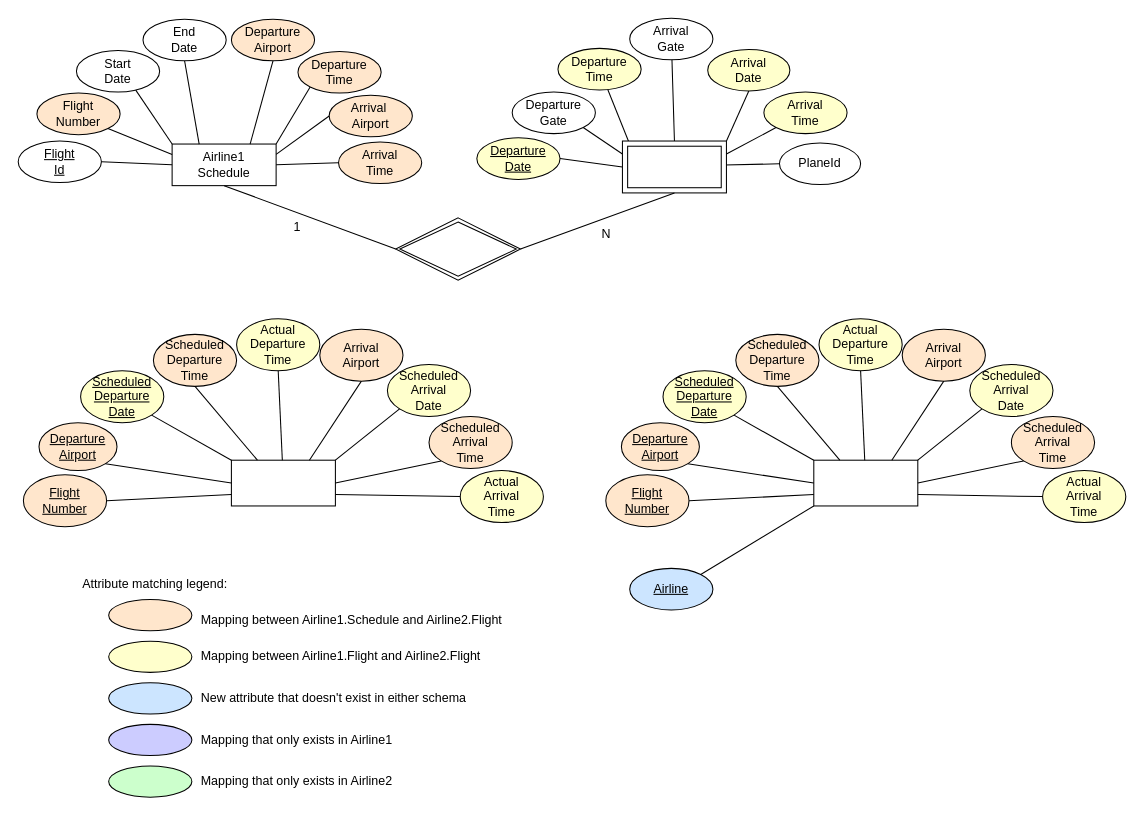
Image size: 1144x815. Some labels were removed from this diagram. Each missing label, with the centre of its shape:
"Airline1 Flight" belongs at point (673, 166).
"Airline2 Flight" belongs at point (282, 482).
"has_flight" belongs at point (458, 248).
"Lab6 Flight" belongs at point (865, 482).
